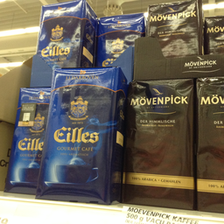coffee: (35, 67, 124, 206), (122, 79, 197, 208), (29, 2, 96, 89), (5, 87, 49, 193), (147, 1, 202, 57), (97, 13, 145, 68)
